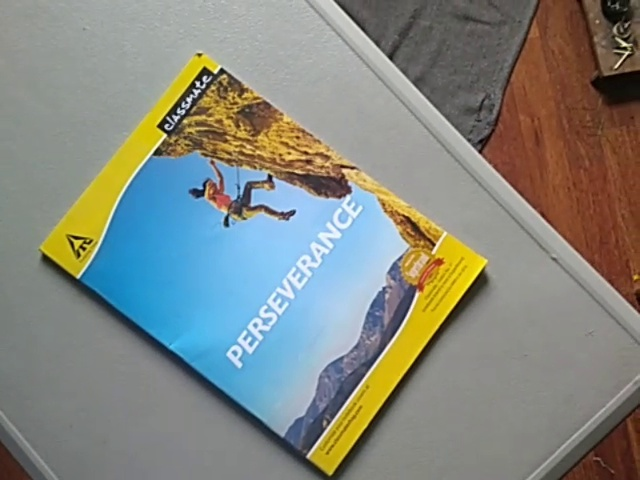Book: (33, 51, 493, 479)
